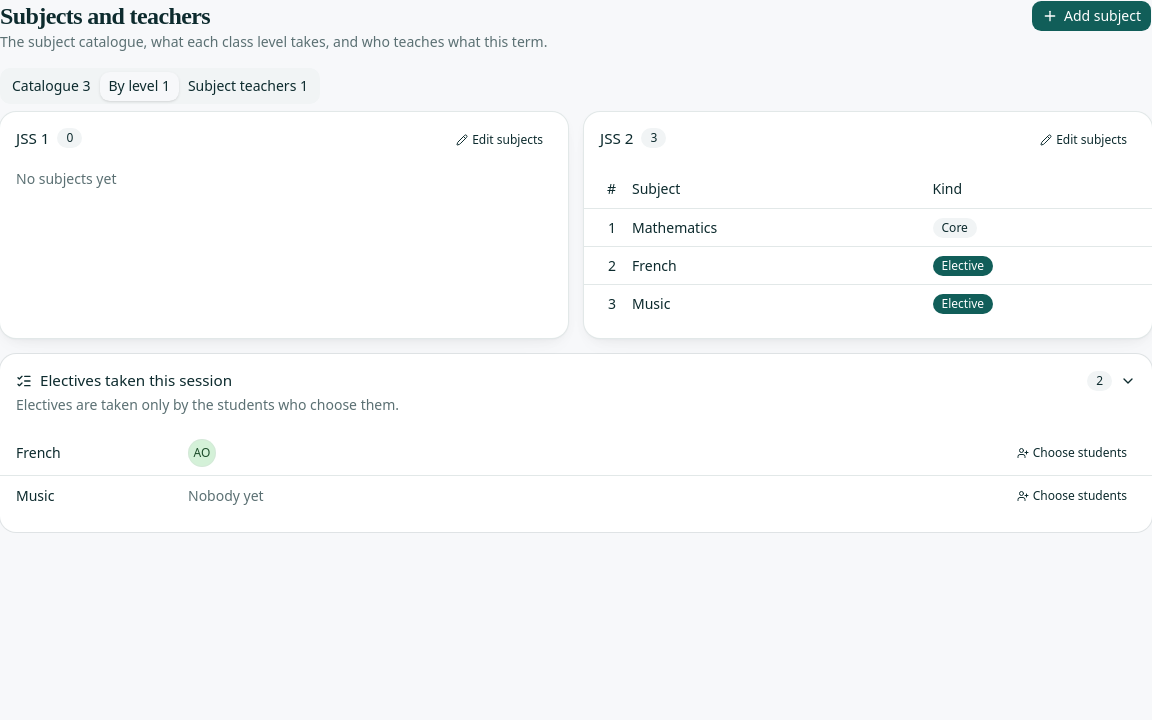
Test: SubjectsPage level subjects sheet › asks before removing an elective that has takers, and keeps the row on Cancel
Click the button "Edit subjects" in the row of "JSS 2" at (1084, 140), box [1031,128,1136,152]
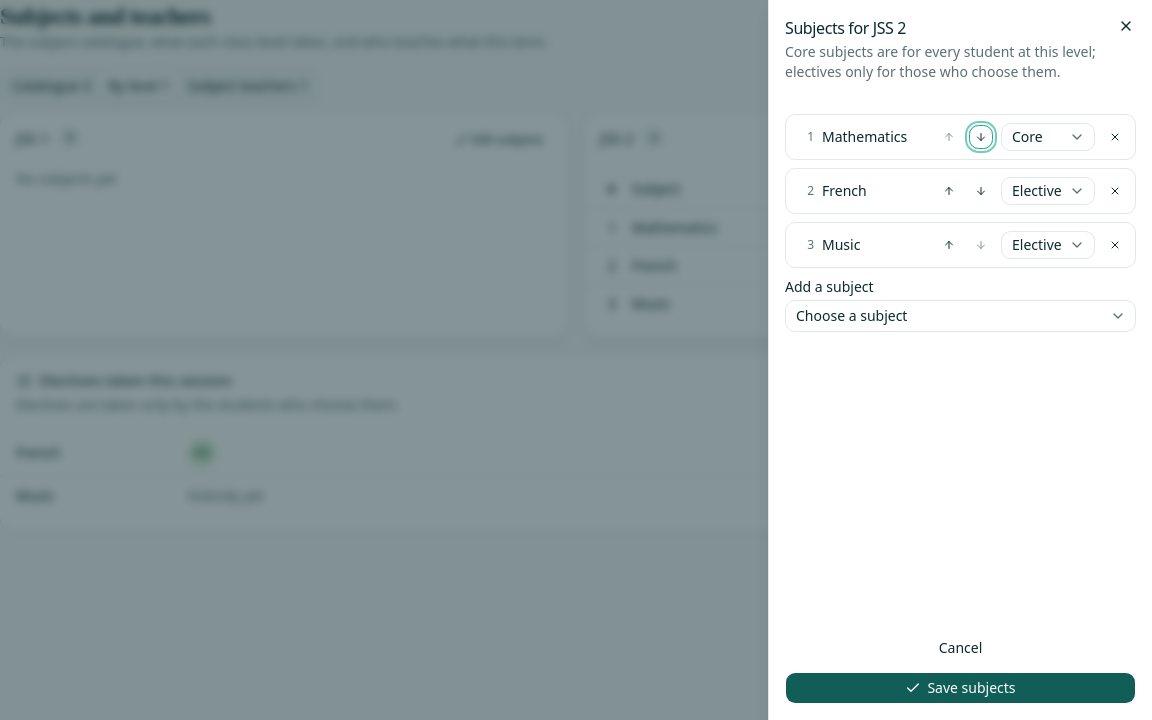
Now the heading "Subjects for JSS 2" is shown, box [785,17,906,39]
Click the button named "Remove French" at (1115, 191), box [1103,179,1127,203]
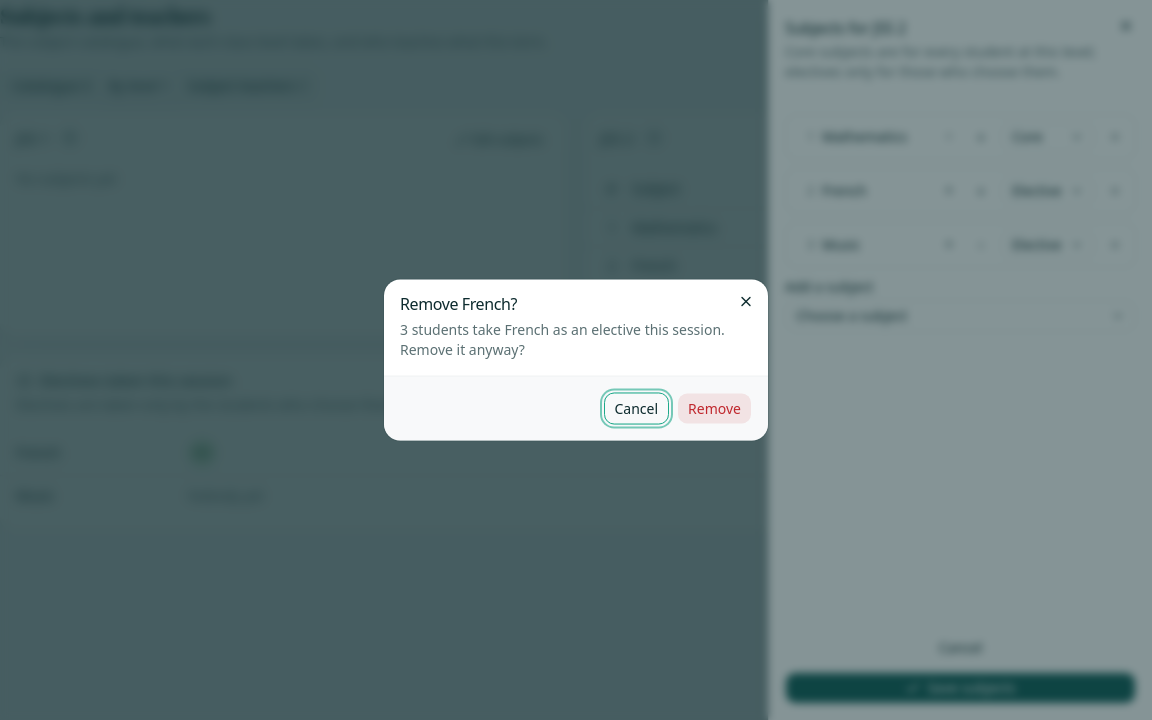
Now the text "3 students take French as an elective this session. Remove it anyway?" is shown, box [400,320,752,360]
Click the button "Cancel" at (636, 408), box [604,392,669,424]
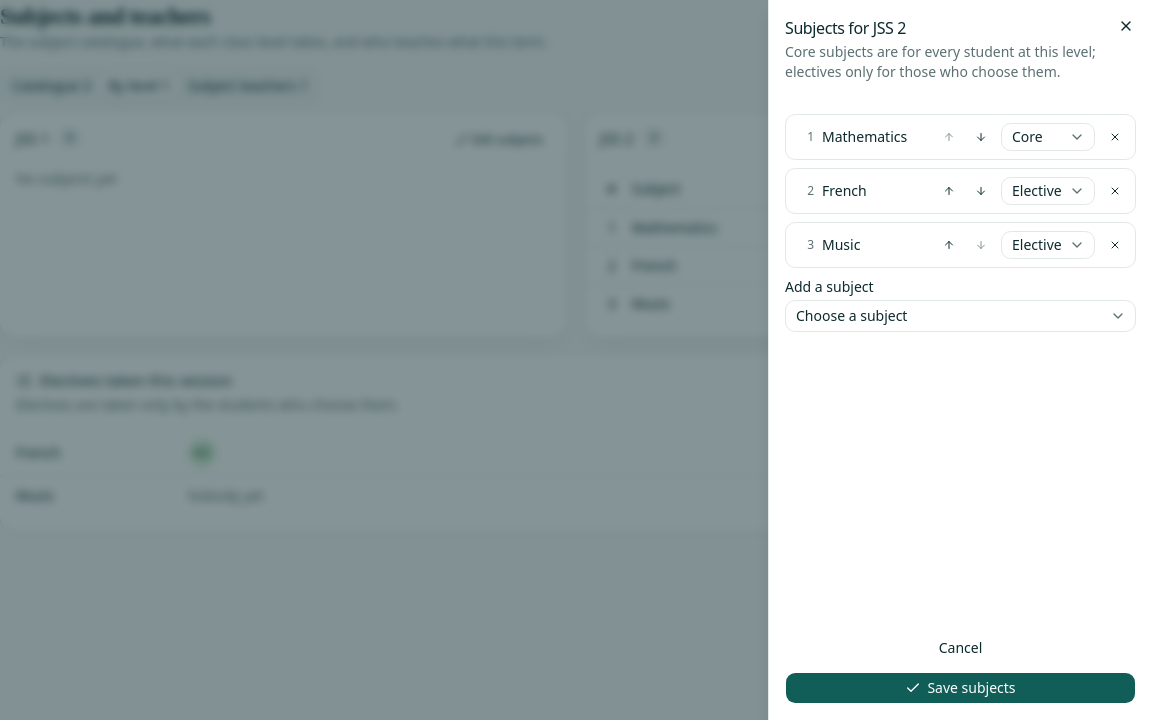
Now the button named "Remove French" is shown, box [1103,179,1127,203]
Now the text "take French as an elective" is gone
